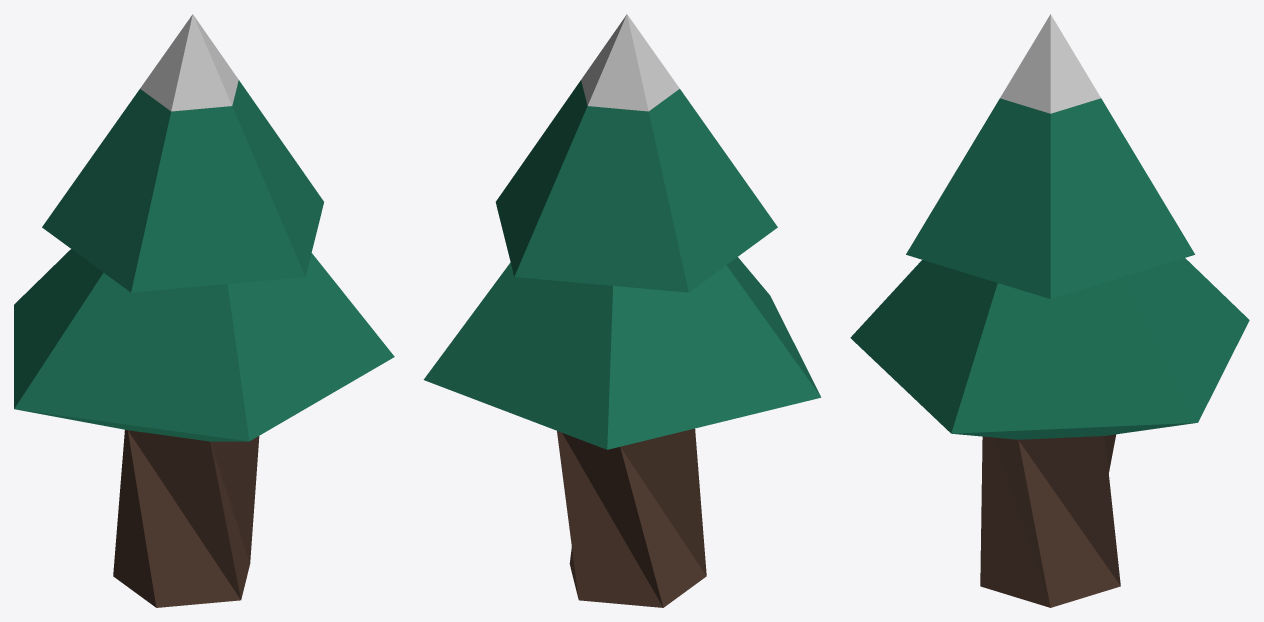
The model's file is tree.fbx.
3 views of the same model, side by side, from view 1: azimuth 30°, elevation 25°; view 2: azimuth 150°, elevation 25°; view 3: azimuth 270°, elevation 25° (orthographic).
Parts seen in each view (by area): view 1: Cone; view 2: Cone; view 3: Cone.
Part boxes in pixels (bbox=[...]): Cone: bbox=[14, 14, 394, 607]; Cone: bbox=[423, 14, 821, 607]; Cone: bbox=[850, 14, 1249, 607].
Size of the model in its own units: 124 by 197 by 126.
